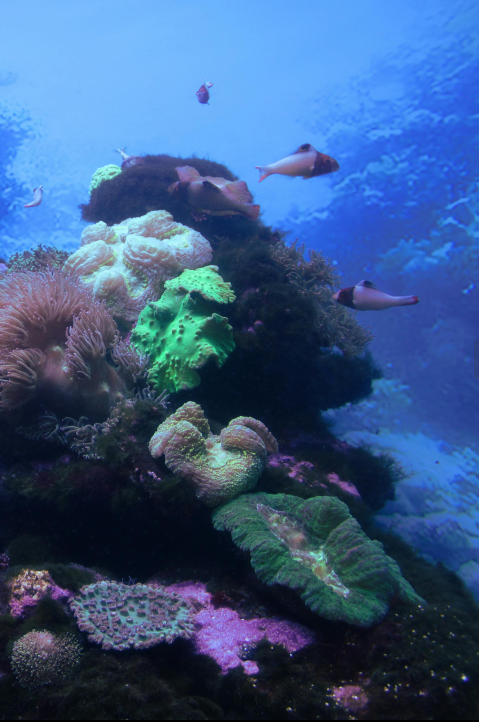fishSmall: (168, 178, 263, 222), (255, 142, 341, 183), (332, 278, 421, 312)
